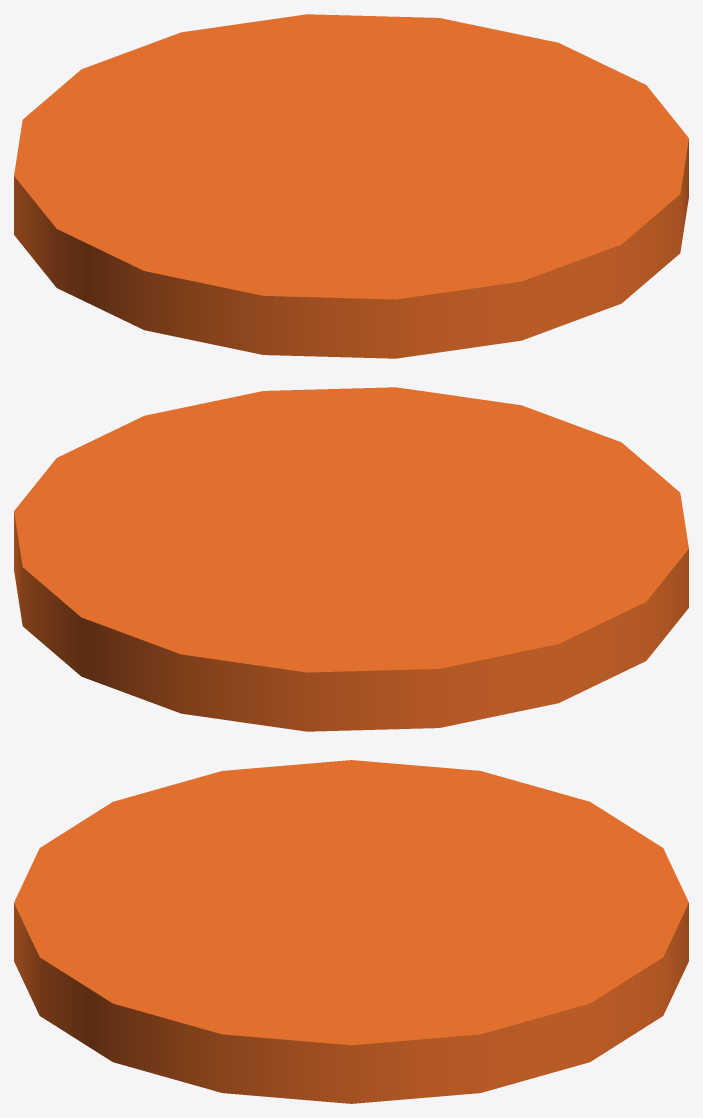
File: tomaat-s.glb
3 views of the same model, one above another, from view 1: azimuth 30°, elevation 25°; view 2: azimuth 150°, elevation 25°; view 3: azimuth 270°, elevation 25° (orthographic).
Visible parts, largest first — view 1: Cylinder_Mat_3_0; view 2: Cylinder_Mat_3_0; view 3: Cylinder_Mat_3_0.
Boxes of the visible parts, <box> form: Cylinder_Mat_3_0: <box>14,14,688,358</box>; Cylinder_Mat_3_0: <box>14,387,688,731</box>; Cylinder_Mat_3_0: <box>14,760,688,1103</box>.
Bounding box in the file's own units: 309 × 29.67 × 309.
